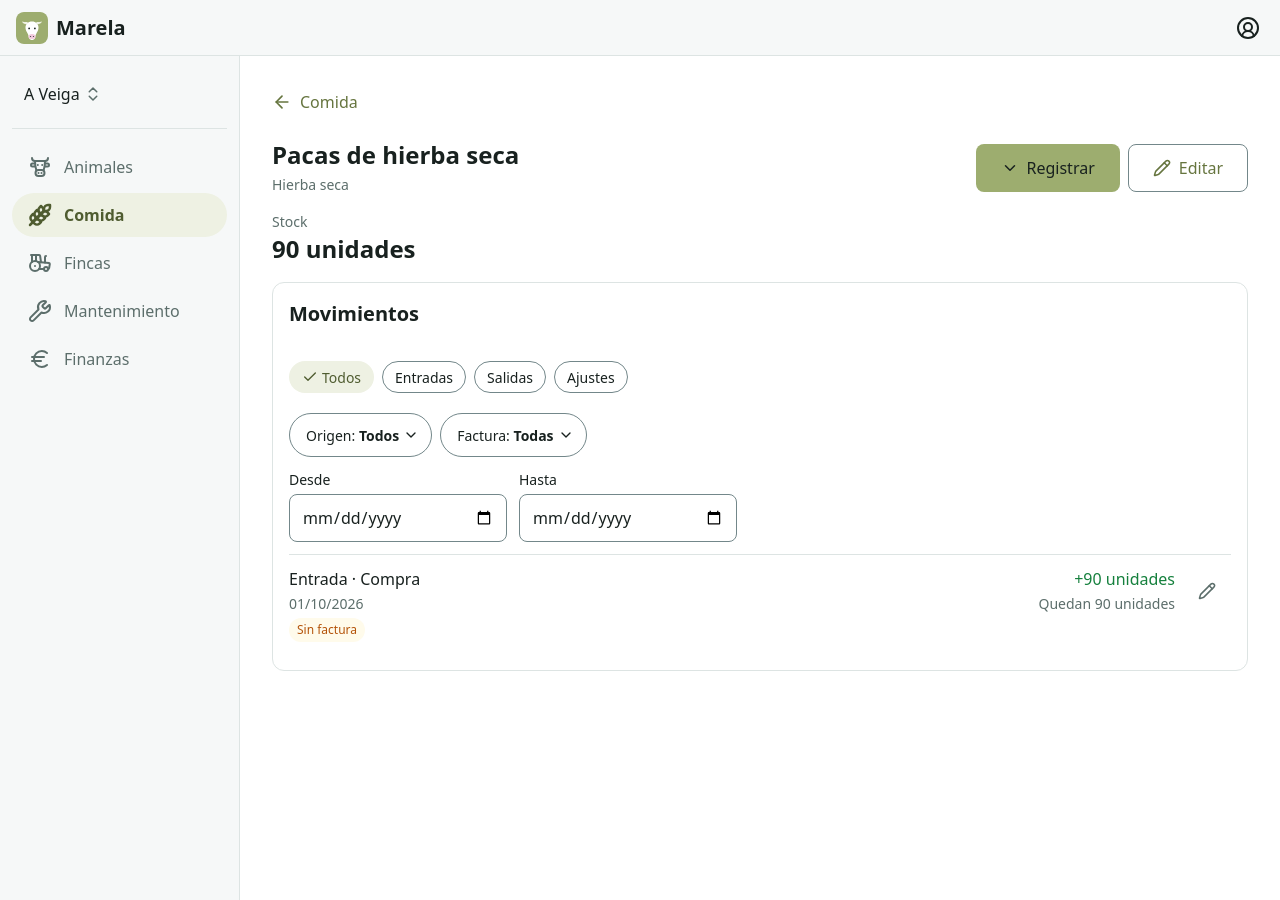
it: movimientos de comida › un recuento fija el stock y muestra la diferencia; pide el motivo
The width and height of the screenshot is (1280, 900).
Click the button with aria-label "Registrar en Pacas de hierba seca". click: x=1048, y=168
box: top-left (976, 144), bottom-right (1120, 192)
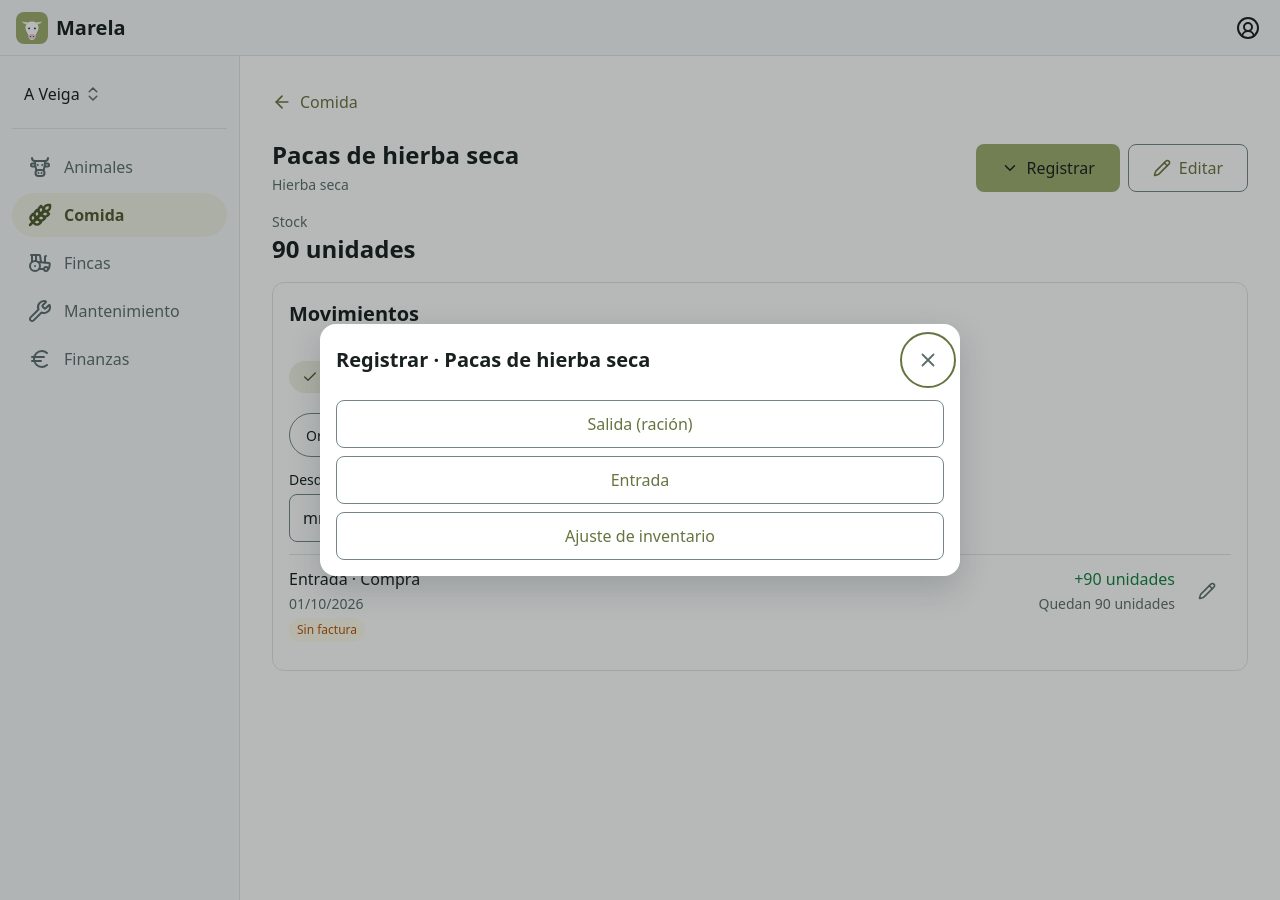
Click the button "Ajuste de inventario". click: x=640, y=536
box: top-left (336, 512), bottom-right (944, 560)
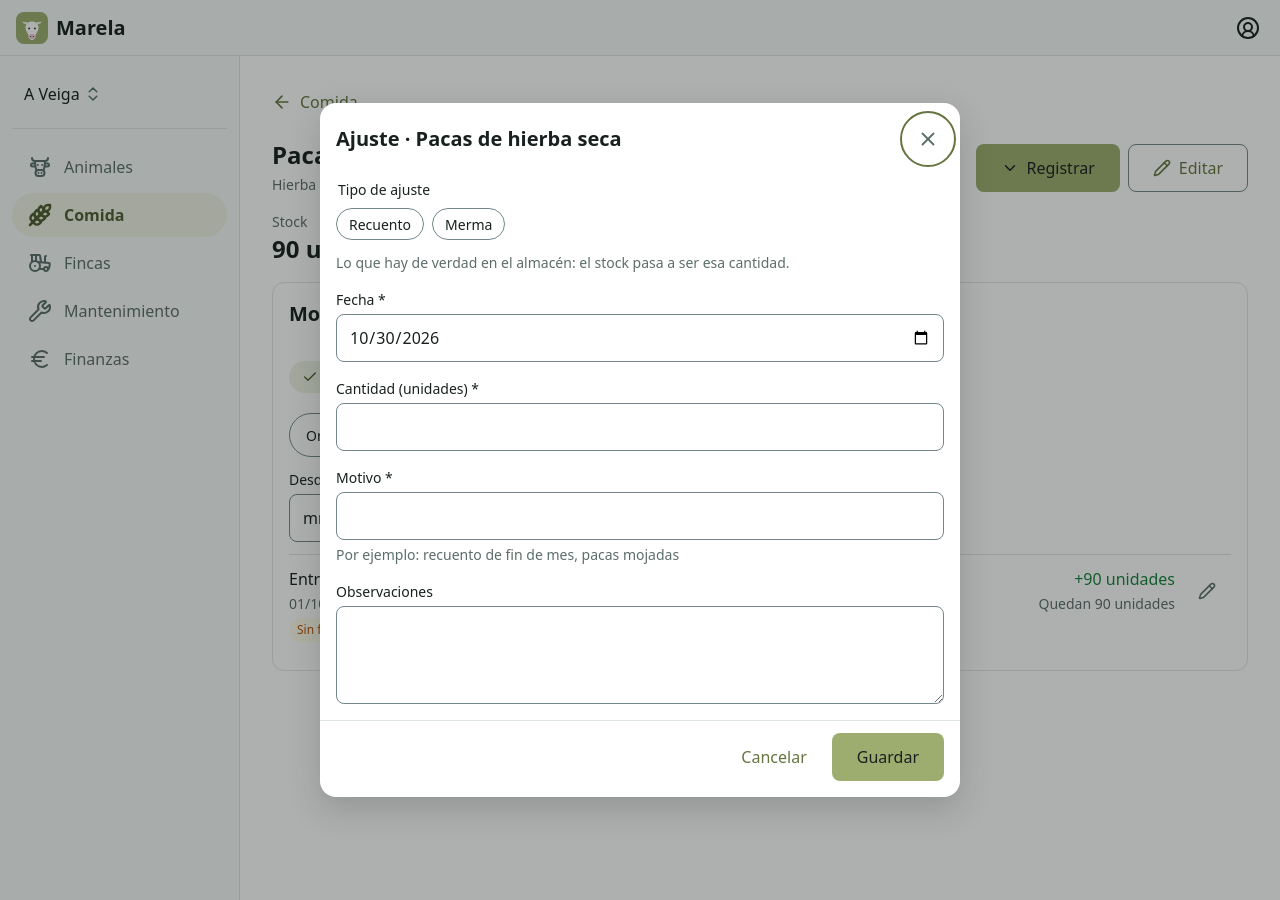
Click the button "Recuento". click: x=380, y=224
box: top-left (336, 208), bottom-right (424, 240)
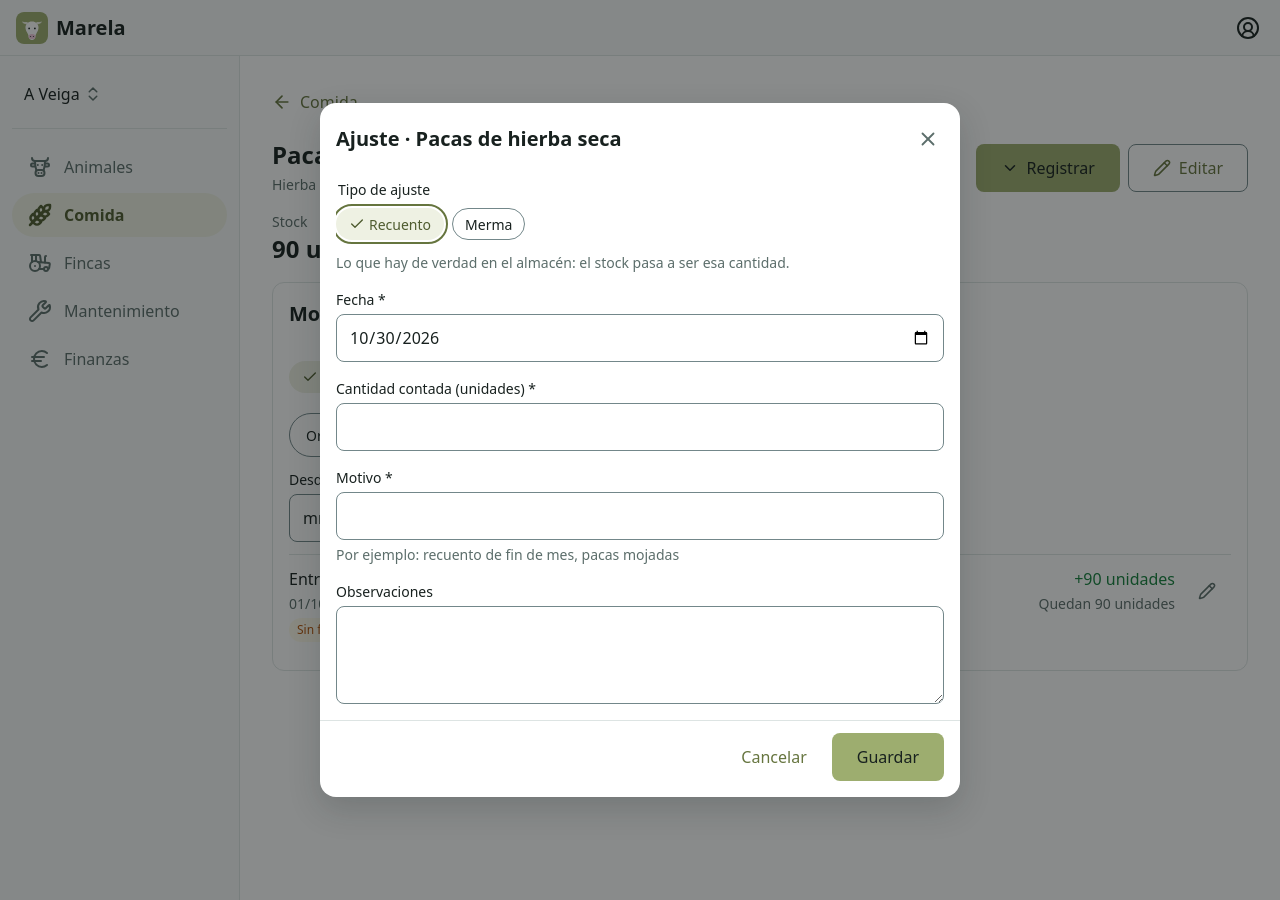
Type "86" into the field labelled "Cantidad contada (unidades) *". click: x=640, y=427
box: top-left (336, 403), bottom-right (944, 451)
Click the button "Guardar". click: x=888, y=757
box: top-left (832, 733), bottom-right (944, 781)
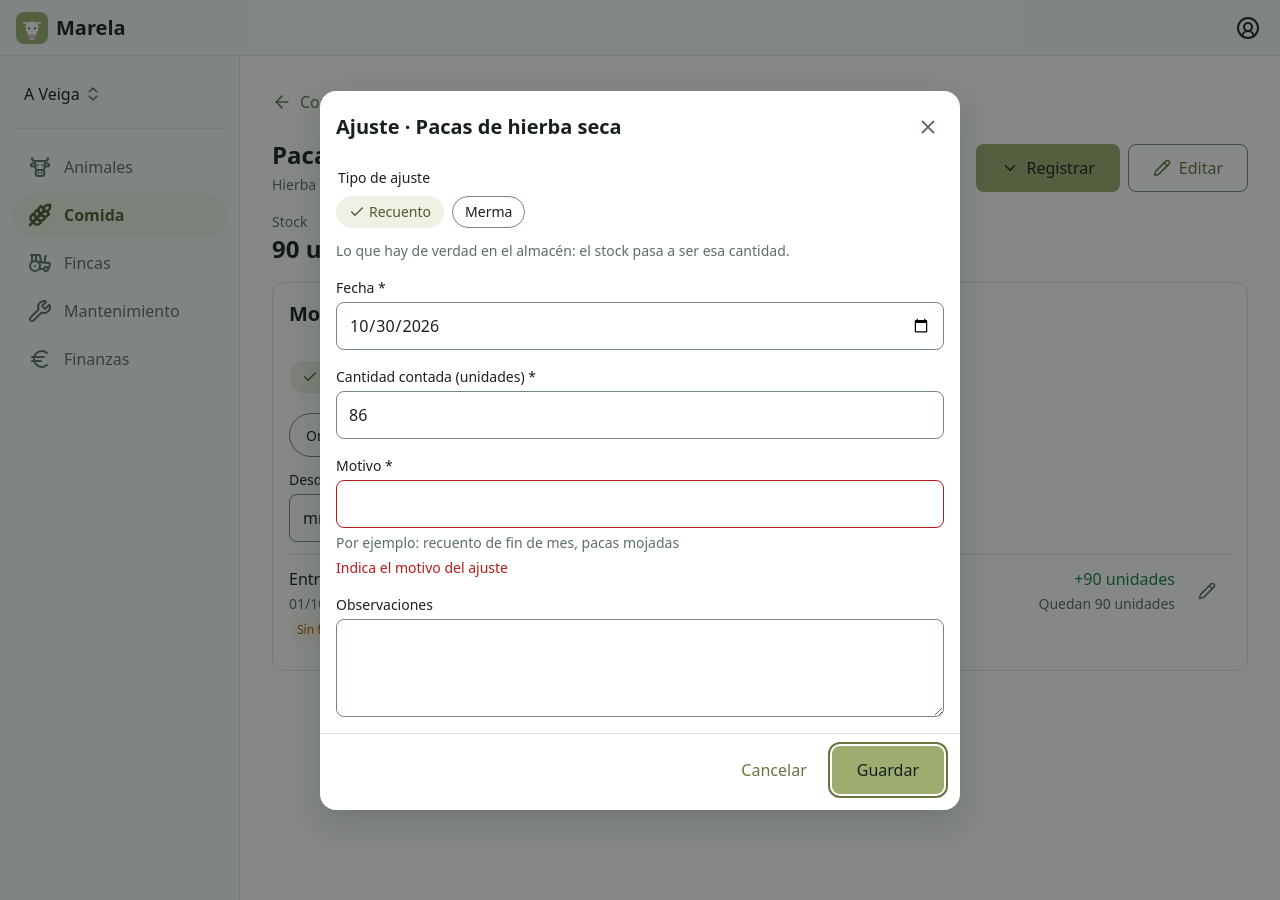
Result: the text "Indica el motivo del ajuste" is shown at top-left (336, 558), bottom-right (508, 576)
Type "Recuento del pajar" into the field labelled "Motivo *". click: x=640, y=504
box: top-left (336, 480), bottom-right (944, 528)
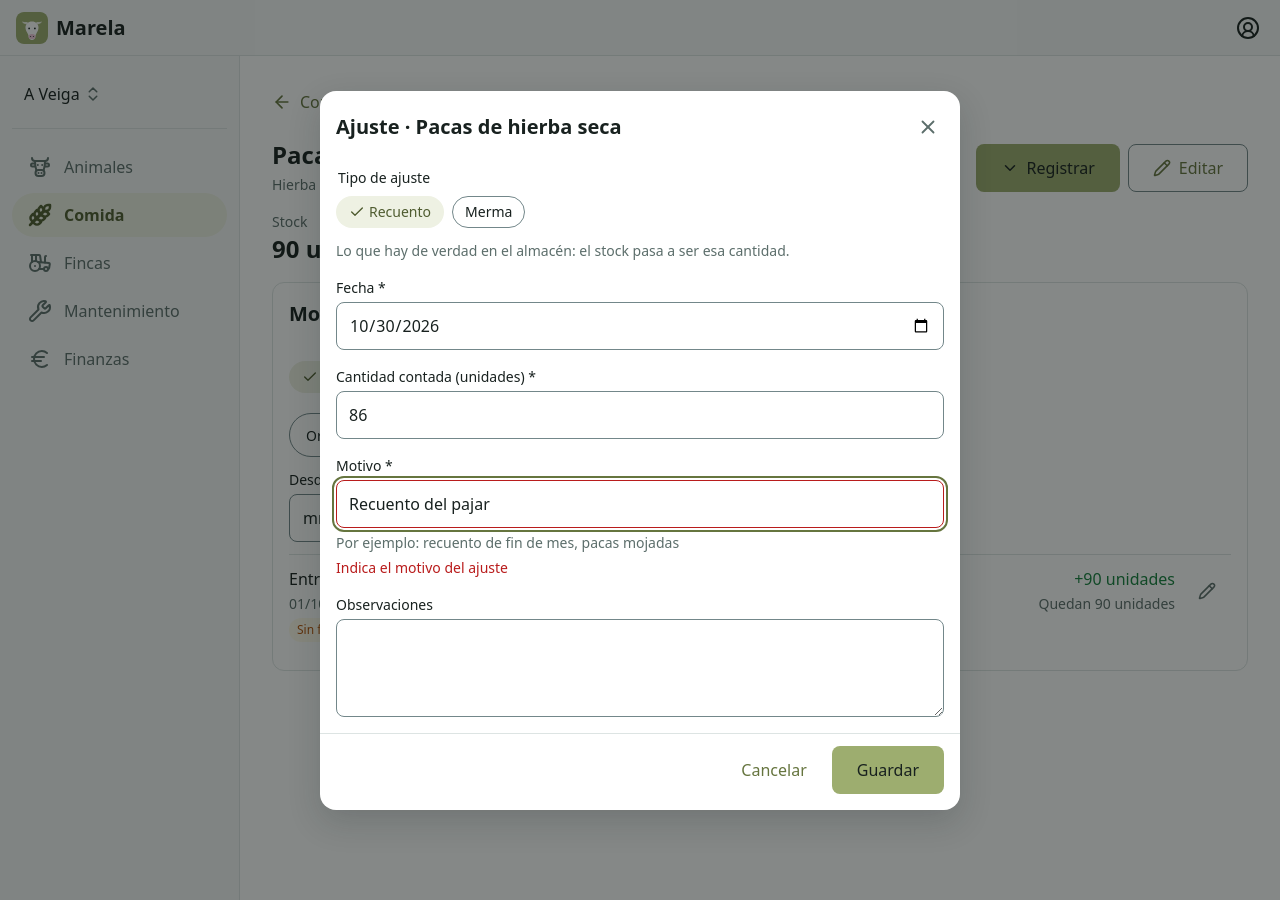
Click the button "Guardar". click: x=888, y=770
box: top-left (832, 746), bottom-right (944, 794)
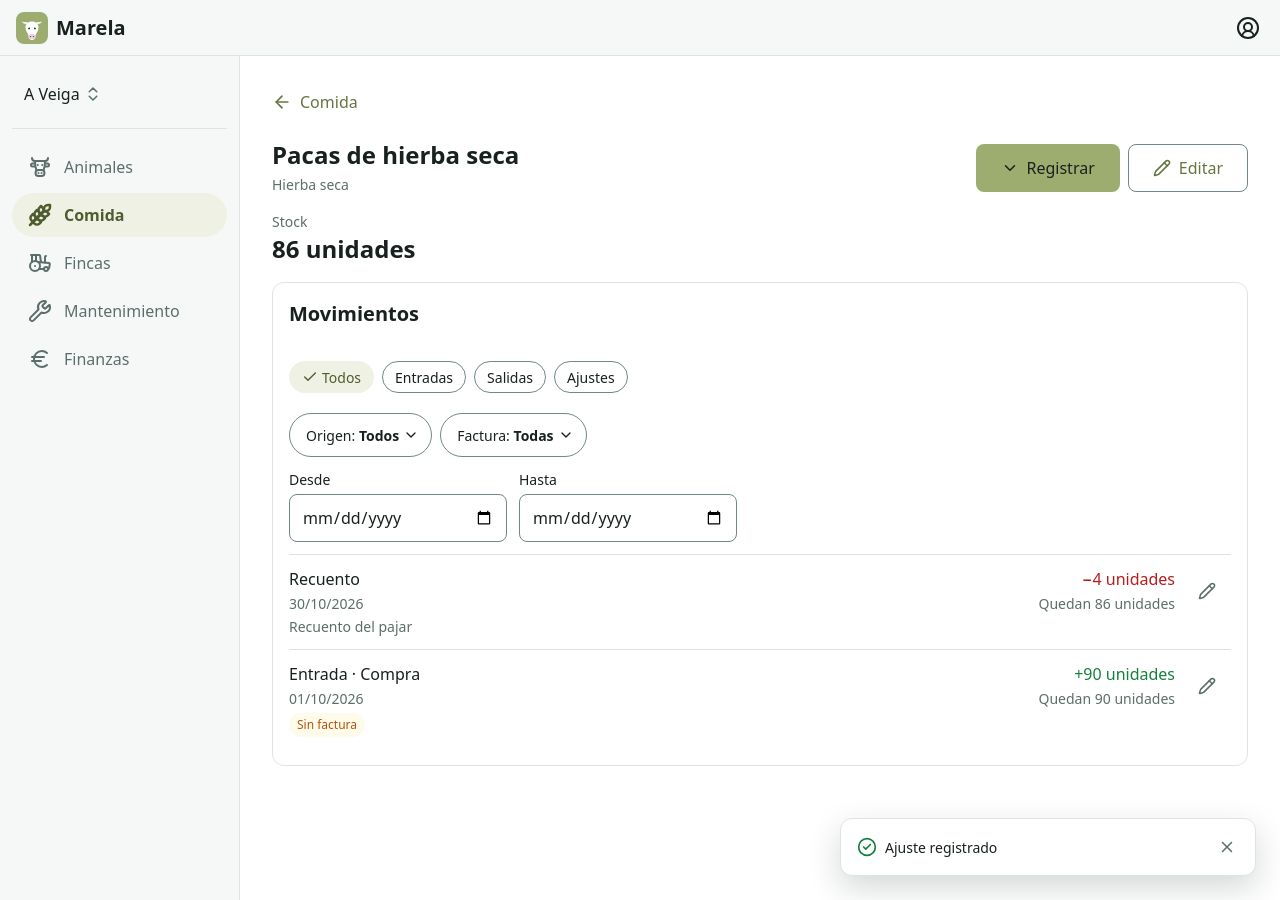
Result: the text "Ajuste registrado" is shown at top-left (885, 838), bottom-right (997, 856)
Result: the list item that starts with "Recuento" is shown at top-left (289, 568), bottom-right (360, 590)
Result: the list item that starts with "Recuento" shows "Recuento del pajar" at top-left (289, 617), bottom-right (412, 636)
